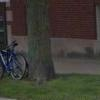Bicycle: (0, 41, 28, 82)
